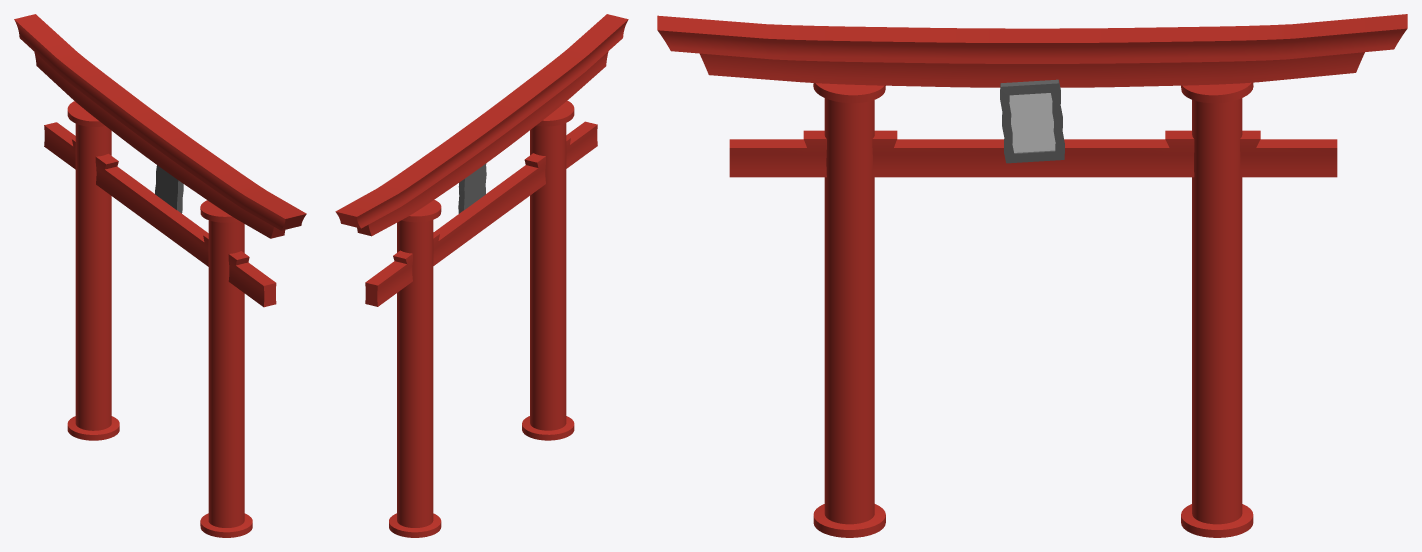
The model's file is shrine.fbx.
3 views of the same model, side by side, from view 1: azimuth 30°, elevation 25°; view 2: azimuth 150°, elevation 25°; view 3: azimuth 270°, elevation 25° (orthographic). The views are drawn at different scales.
Visible parts, largest first — view 1: pillar.L, pillar.R, roof beam, middle beam, top beam, frame; view 2: pillar.R, pillar.L, roof beam, middle beam, top beam, frame; view 3: roof beam, pillar.R, pillar.L, middle beam, top beam, frame, inside frame.
Part boxes in pixels (<box>): pillar.L: <box>200,200,252,537</box>; pillar.R: <box>67,101,119,440</box>; roof beam: <box>14,14,306,230</box>; middle beam: <box>44,122,276,307</box>; top beam: <box>34,52,285,238</box>; frame: <box>155,165,183,213</box>; pillar.R: <box>389,200,441,537</box>; pillar.L: <box>522,100,574,440</box>; roof beam: <box>335,14,628,228</box>; middle beam: <box>365,121,597,306</box>; top beam: <box>357,51,608,236</box>; frame: <box>458,163,486,213</box>; roof beam: <box>657,14,1407,63</box>; pillar.R: <box>1181,82,1253,537</box>; pillar.L: <box>813,83,885,537</box>; middle beam: <box>729,130,1337,177</box>; top beam: <box>700,52,1364,87</box>; frame: <box>1000,79,1064,163</box>; inside frame: <box>1009,93,1055,152</box>.
Bounding box in the file's own units: 90.92 × 695 × 942.
